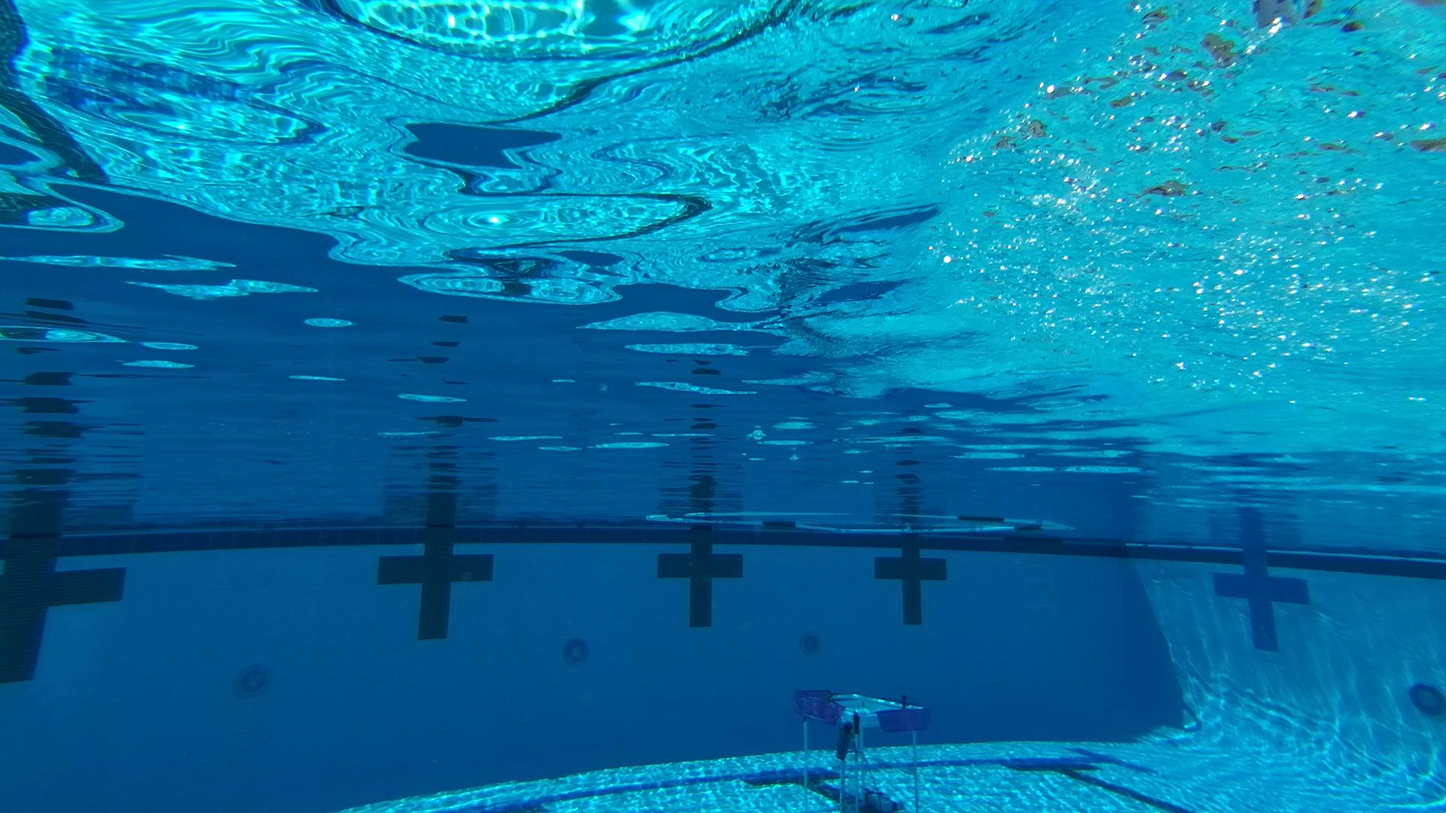coral-box-side: (791, 684, 932, 808)
